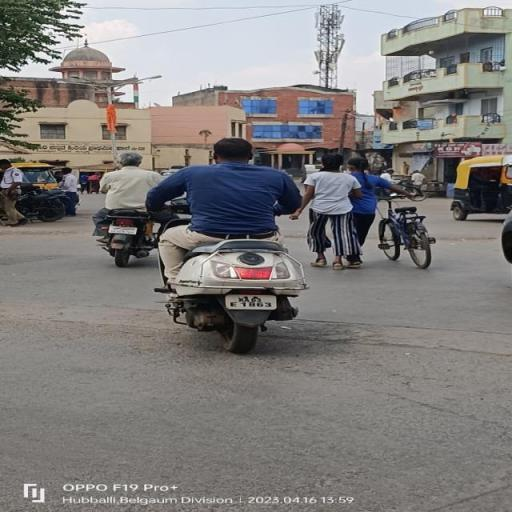bike: (141, 135, 311, 357)
numberplate: (223, 294, 277, 310)
withouthelmet: (216, 139, 254, 162)
